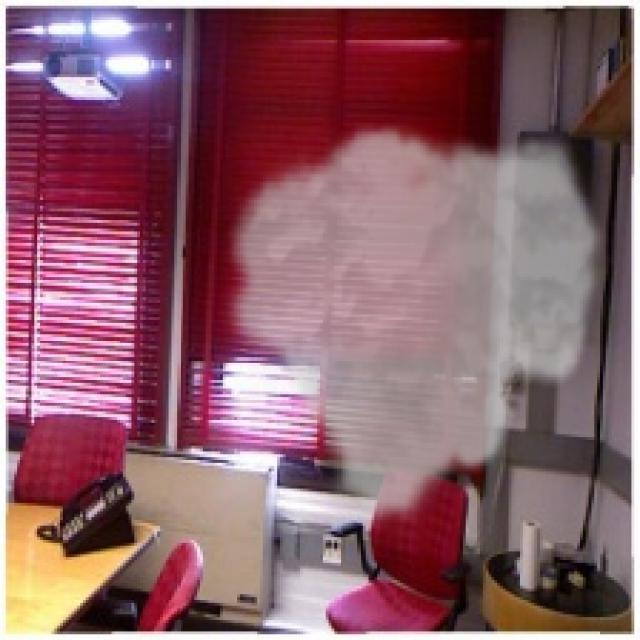Smoke: (217, 120, 609, 529)
